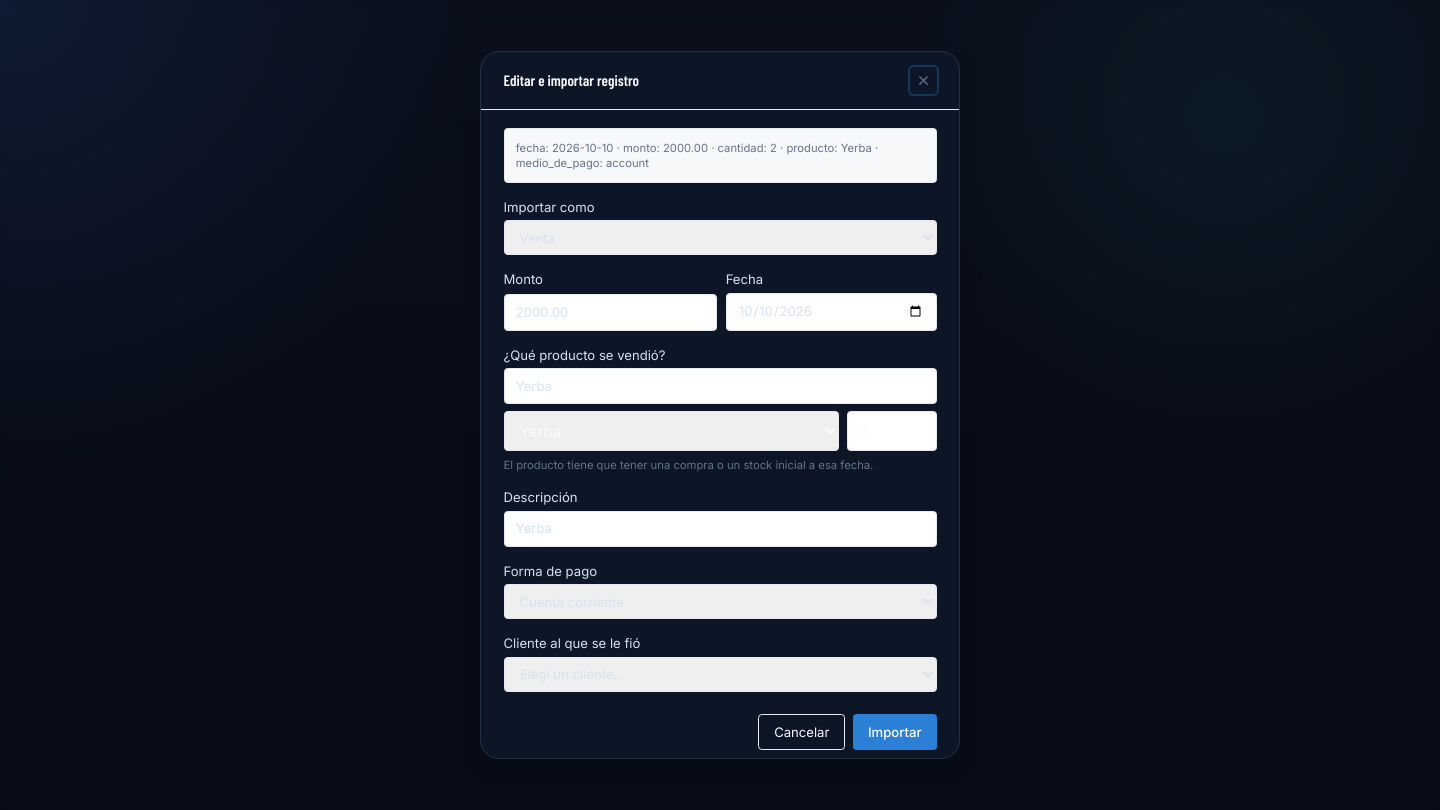
it: sin cliente no se manda y dice por qué
Select "Yerba" in the dropdown named "Producto vendido" at (671, 431), box [504, 411, 839, 451]
Click the button "Importar" at (895, 732), box [853, 714, 936, 750]
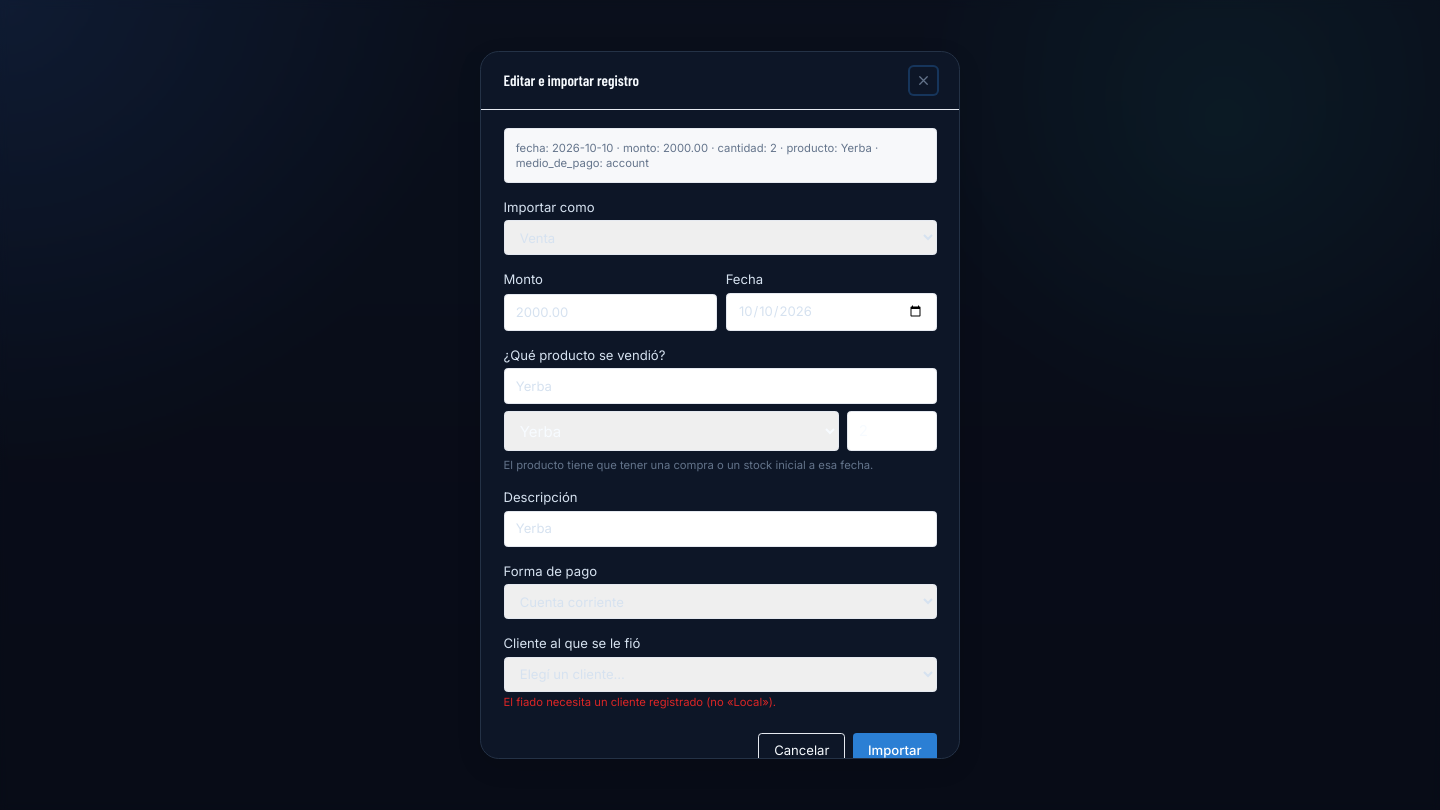
Check: the text "El fiado necesita un cliente registrado (no «Local»)." is shown, box [504, 695, 776, 709]
